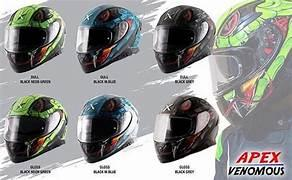Helmet: (77, 5, 141, 72), (154, 95, 218, 162), (4, 95, 66, 162), (77, 95, 138, 162), (153, 6, 214, 72), (4, 5, 64, 70)
